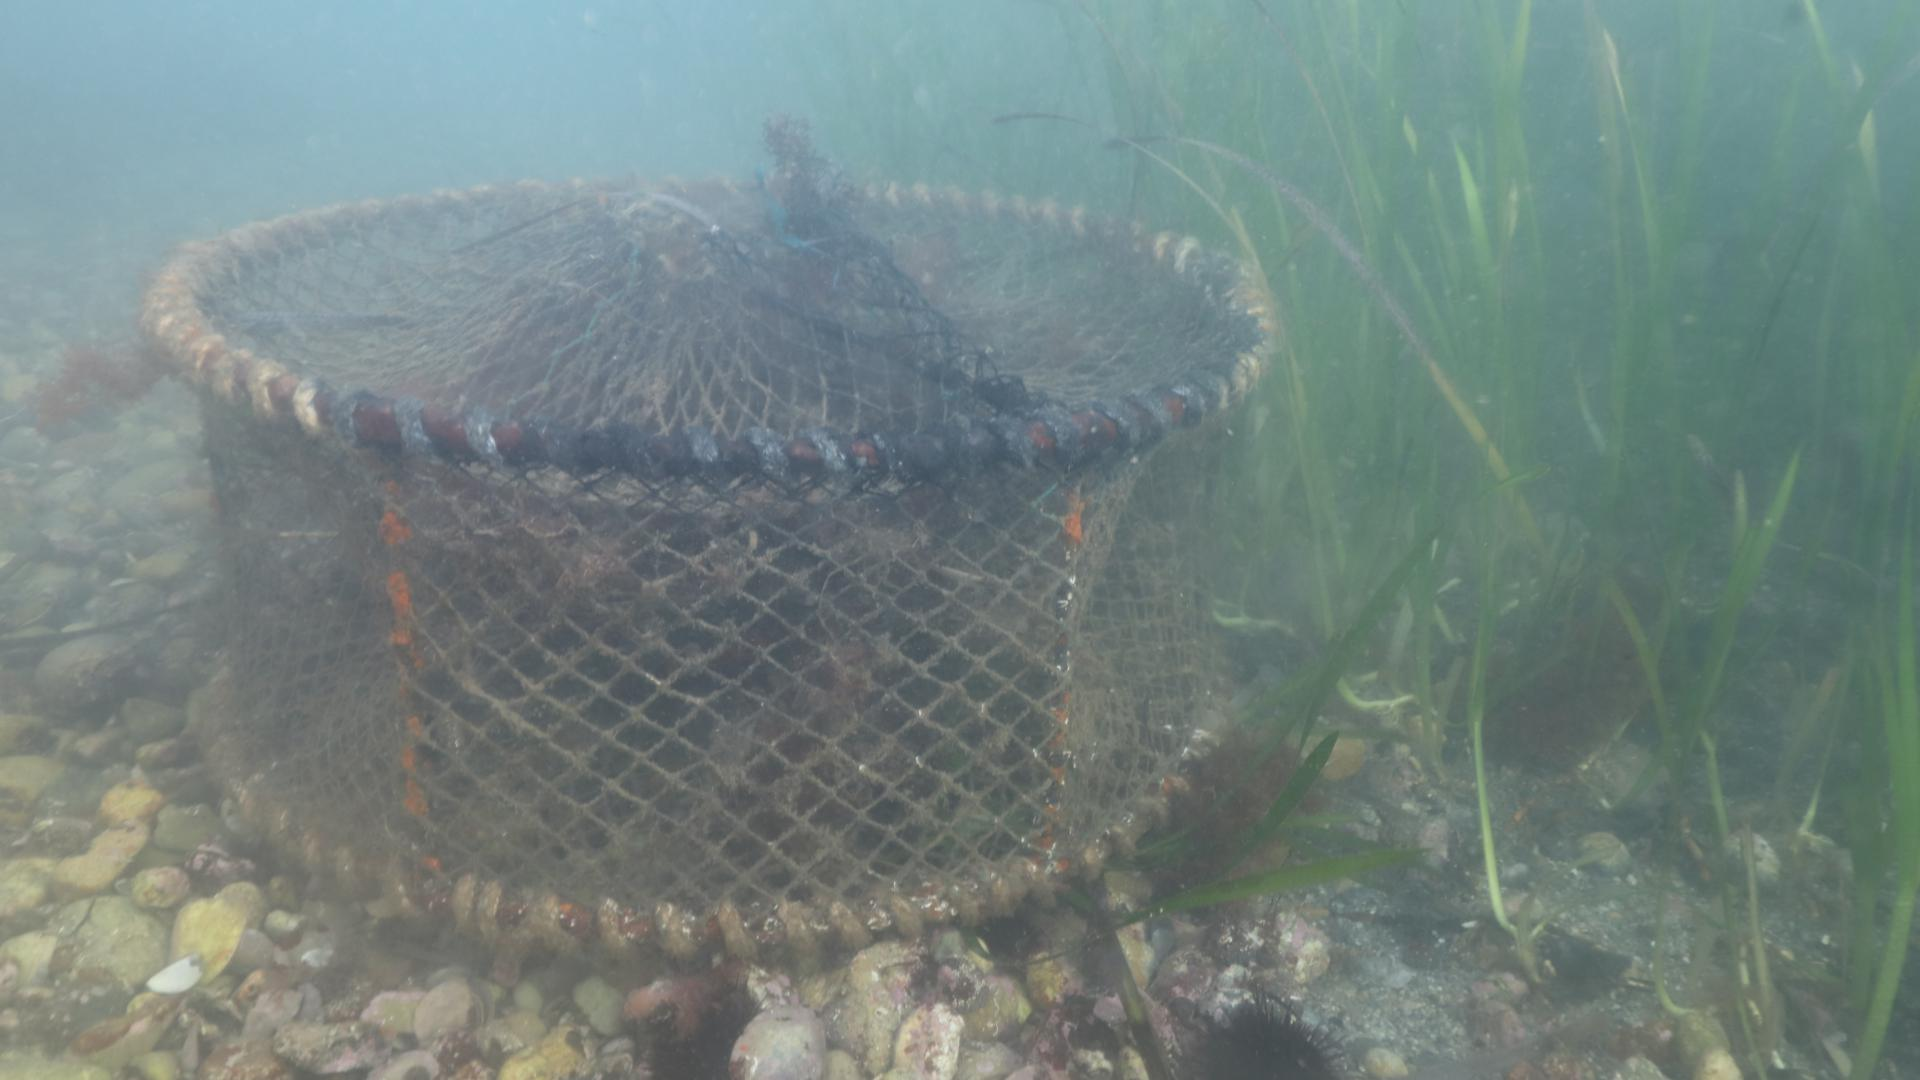circular fish trap: (142, 119, 1274, 957)
